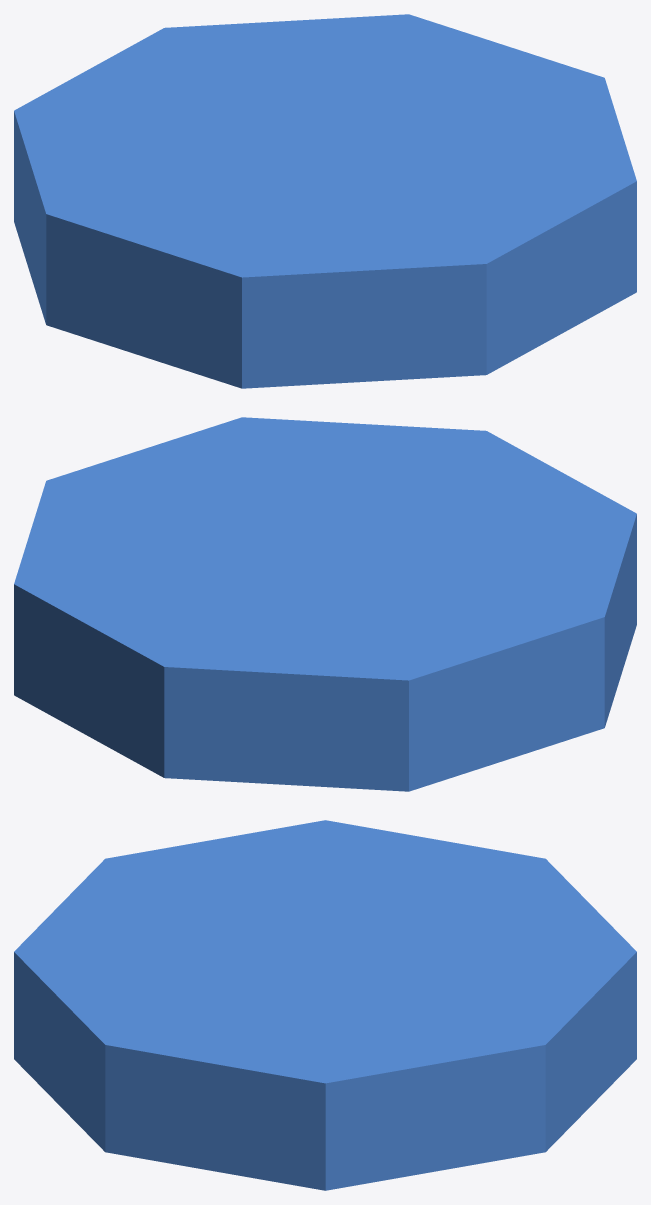
Rendered from blood.glb.
3 views of the same model, one above another, from view 1: azimuth 30°, elevation 25°; view 2: azimuth 150°, elevation 25°; view 3: azimuth 270°, elevation 25° (orthographic). The views are drawn at different scales.
Parts seen in each view (by area): view 1: water; view 2: water; view 3: water.
Boxes of the visible parts, x1=… form: water: x1=14, y1=14, x2=636, y2=388; water: x1=14, y1=417, x2=636, y2=791; water: x1=14, y1=820, x2=636, y2=1190.
Bounding box in the file's own units: 0.5996 × 0.114 × 0.5996.
